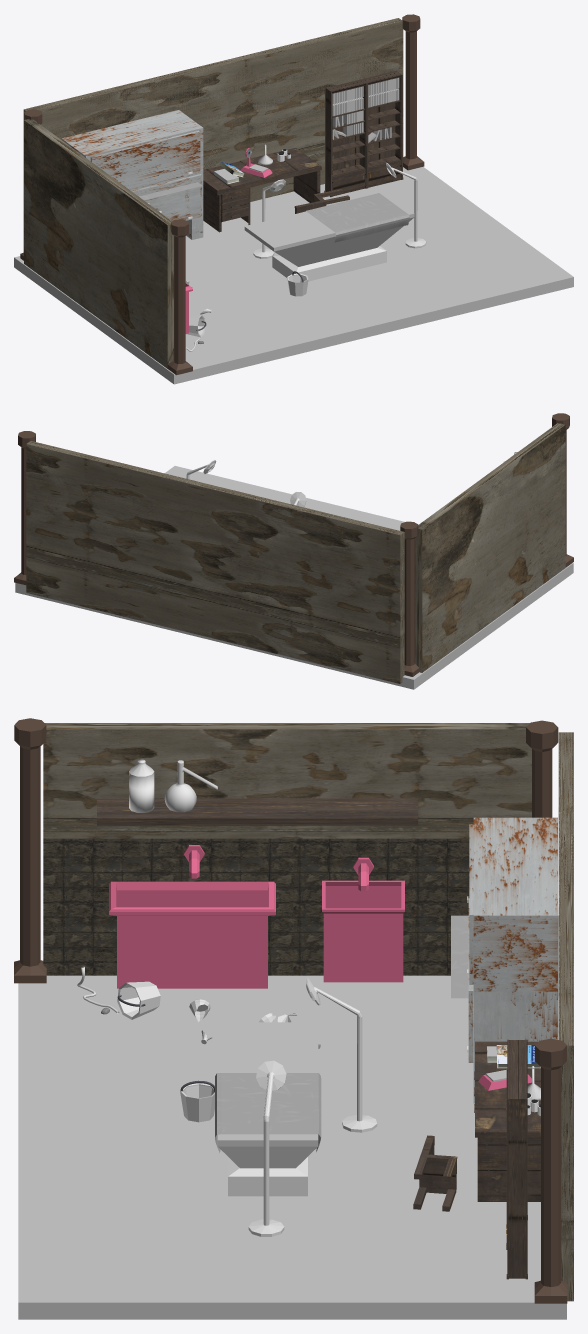
Rendered from Autopsylab2.fbx.
3 views of the same model, one above another, from view 1: azimuth 30°, elevation 25°; view 2: azimuth 150°, elevation 25°; view 3: azimuth 270°, elevation 25° (orthographic). The views are drawn at different scales.
Parts seen in each view (by area): view 1: Floor, Wall.002, Wall.001, BodyCooler, Autopsytable, Desk, Cube.006, TableCloth, Pillar.001, Pillar.003, Cube.007, BodycoolerDoor (+5 smaller); view 2: Wall.002, Wall.001, Floor, Pillar.002, Pillar.003, Pillar.001; view 3: Floor, Wall.001, BodyCooler, Sink.001, Autopsytable, Sink.002, Cube.005, Wall.002, Pillar.003, Pillar.001, TableCloth, Desk (+11 smaller).
Boxes of the visible parts, x1,y1,x2,y2 form: Floor: (14,167,573,384); Wall.002: (23,18,403,251); Wall.001: (24,119,173,368); BodyCooler: (61,110,203,239); Autopsytable: (244,192,414,281); Desk: (203,148,321,232); Cube.006: (326,70,401,196); TableCloth: (305,193,409,242); Pillar.001: (167,219,192,375); Pillar.003: (402,14,424,170); Cube.007: (332,100,400,176); BodycoolerDoor: (131,174,201,220); Wall.002: (26,441,404,683); Wall.001: (415,423,565,672); Floor: (15,466,573,689); Pillar.002: (400,521,419,676); Pillar.003: (14,431,35,585); Pillar.001: (552,413,573,567); Floor: (18,975,566,1319); Wall.001: (43,723,531,975); BodyCooler: (469,817,557,1103); Sink.001: (109,881,275,988); Autopsytable: (217,1022,318,1196); Sink.002: (322,880,404,982); Cube.005: (97,798,417,825); Wall.002: (558,732,573,1301); Pillar.003: (534,1038,567,1303); Pillar.001: (14,718,46,983); TableCloth: (215,1073,321,1152); Desk: (474,1041,540,1201).
Bounding box in the file's own units: 1977 × 738 × 1396.
